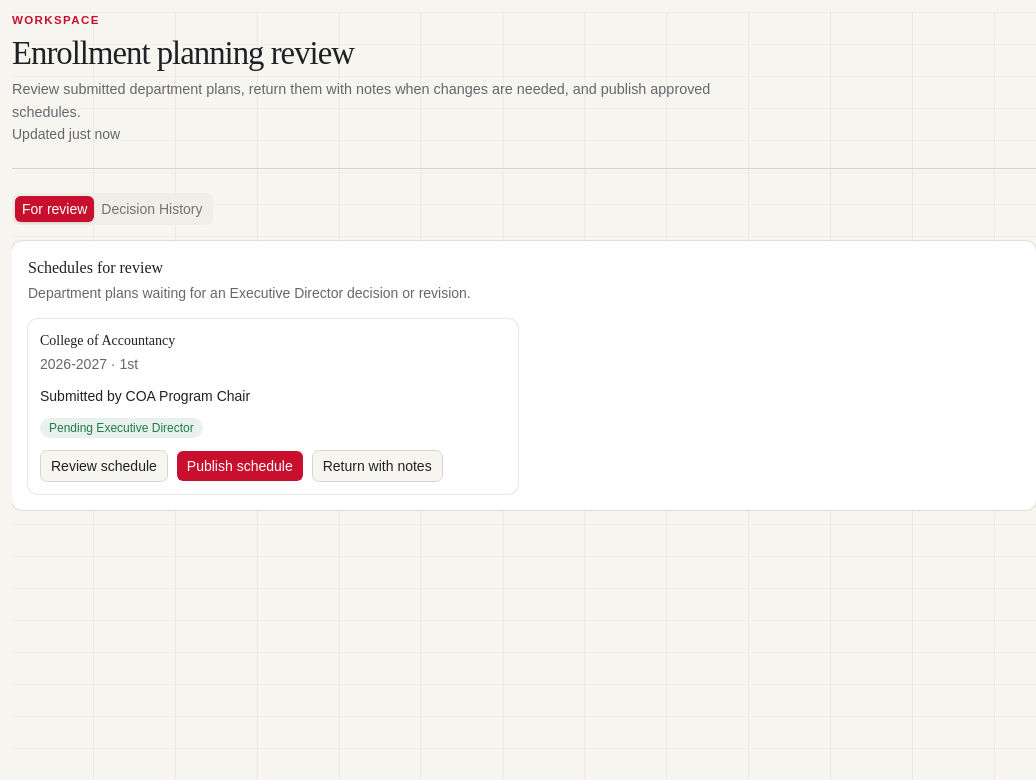
Test: MasterScheduleWorkspace › shows executive decision controls even when no sections are published yet
expect the button "Publish schedule" is shown: met, box [176, 450, 304, 482]
expect the button "Return with notes" is shown: met, box [312, 450, 443, 482]
Click the tab "Decision History" at (152, 209), box [94, 196, 210, 222]
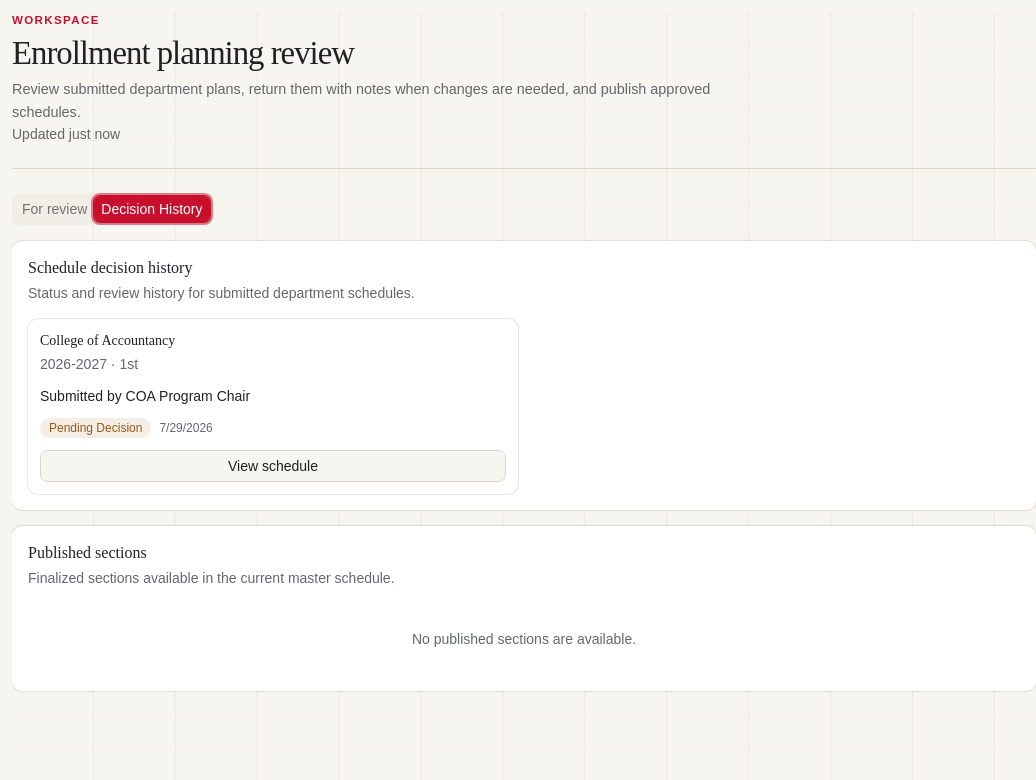
expect the text "Pending Decision" is shown: met, box [40, 418, 151, 438]
expect the text "No published sections are available." is shown: met, box [412, 628, 636, 651]
